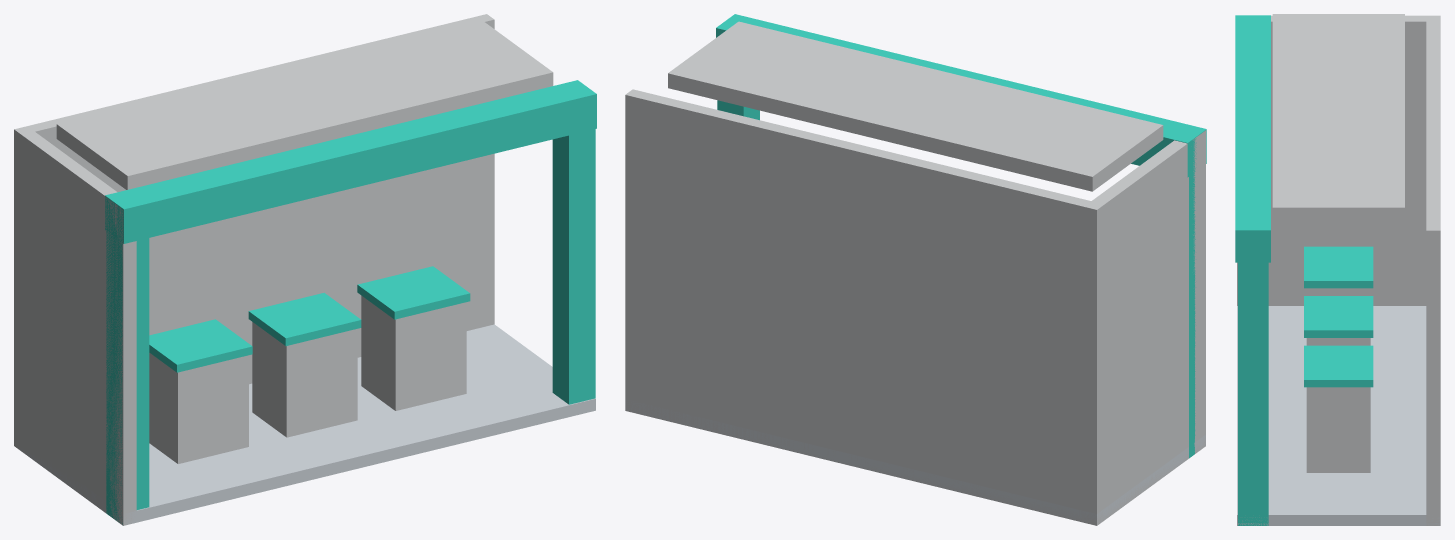
3 renders of one model, left to right at view 1: azimuth 30°, elevation 25°; view 2: azimuth 150°, elevation 25°; view 3: azimuth 270°, elevation 25°, orthographic. The views are drawn at different scales.
Parts seen in each view (by area): view 1: Exhibition Booth Concept; view 2: Exhibition Booth Concept; view 3: Exhibition Booth Concept.
Part boxes in pixels (x1=…): Exhibition Booth Concept: x1=14, y1=14, x2=596, y2=525; Exhibition Booth Concept: x1=625, y1=14, x2=1206, y2=525; Exhibition Booth Concept: x1=1235, y1=14, x2=1440, y2=525.
Size of the model in its own units: 5 by 3.34 by 2.01.
